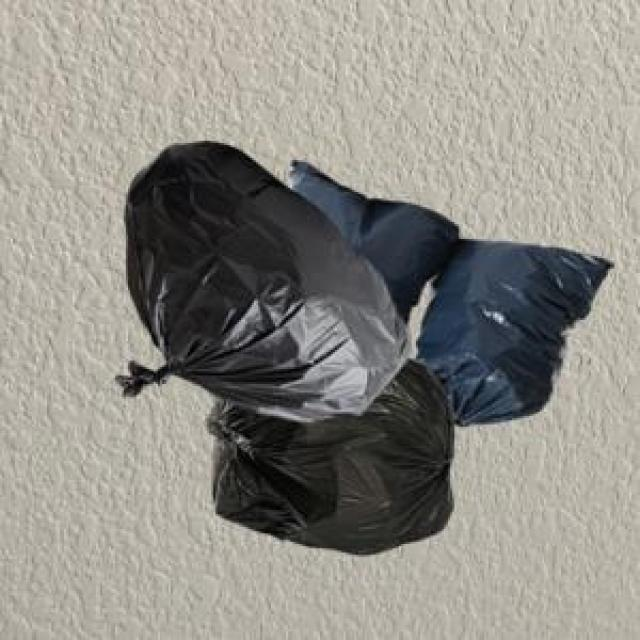Vinyl: (120, 148, 610, 552)
